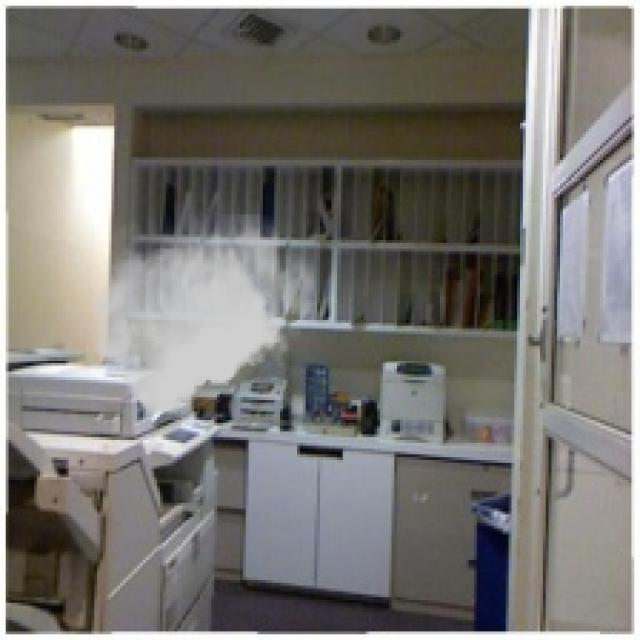smoke: (92, 214, 314, 414)
